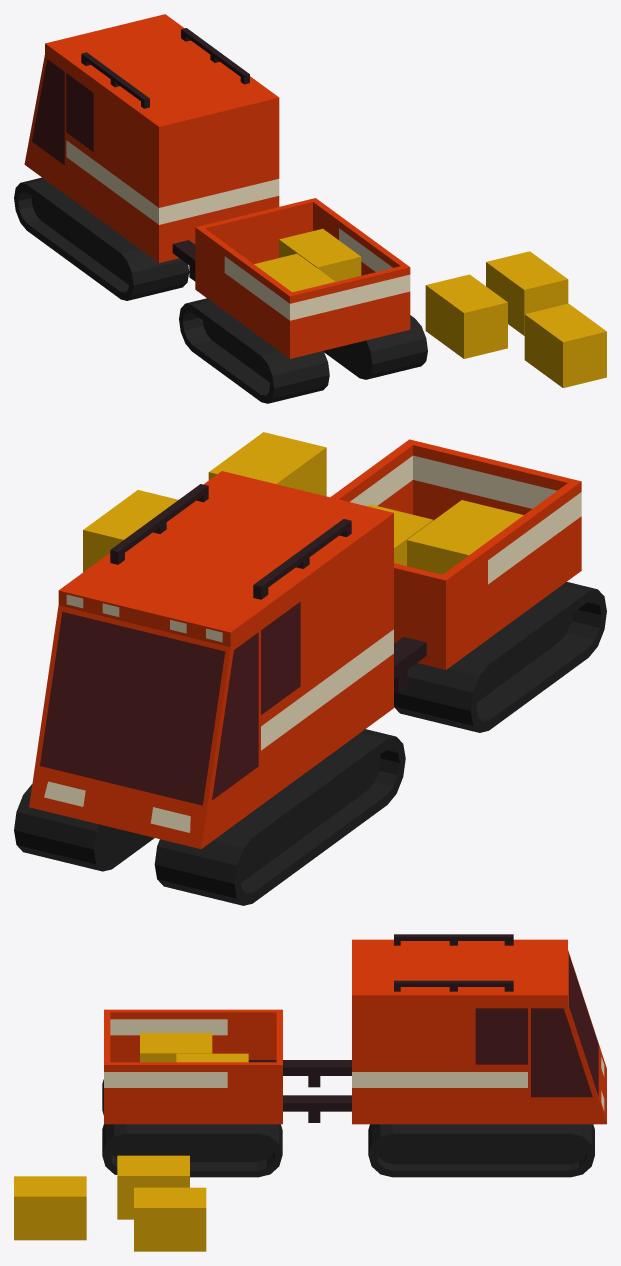
Rendered from car+pricep.fbx.
3 renders of one model, top to bottom at view 1: azimuth 30°, elevation 25°; view 2: azimuth 150°, elevation 25°; view 3: azimuth 270°, elevation 25°, orthographic. The views are drawn at different scales.
Visible parts, largest first — view 1: Cube.037, Cube.057, Cylinder.065, Cylinder.064, Cube.042, Cube.043, Cube.041, Cube.040, Cube.039, Cube.038, Cube.044; view 2: Cube.037, Cube.057, Cylinder.064, Cylinder.065, Cube.039, Cube.042, Cube.038, Cube.041, Cube.040, Cube.044; view 3: Cube.037, Cube.057, Cylinder.064, Cylinder.065, Cube.042, Cube.041, Cube.043, Cube.044, Cube.038, Cube.039, Cube.040.
Part boxes in pixels (x1,y1,x2,y2): Cube.037: (24, 14, 279, 262); Cube.057: (195, 198, 410, 358); Cylinder.065: (179, 298, 427, 403); Cylinder.064: (14, 177, 189, 300); Cube.042: (524, 303, 606, 387); Cube.043: (425, 274, 507, 358); Cube.041: (486, 251, 568, 335); Cube.040: (279, 228, 361, 281); Cube.039: (254, 253, 335, 292); Cube.038: (81, 28, 249, 108); Cube.044: (172, 240, 195, 281); Cube.037: (29, 471, 393, 848); Cube.057: (330, 439, 581, 669); Cylinder.064: (14, 729, 405, 905); Cylinder.065: (394, 582, 606, 732); Cube.039: (407, 500, 523, 574); Cube.042: (208, 432, 326, 496); Cube.038: (110, 484, 351, 599); Cube.041: (83, 490, 178, 572); Cube.040: (367, 504, 433, 565); Cube.044: (394, 637, 426, 693); Cube.037: (352, 939, 606, 1124); Cube.057: (104, 1009, 282, 1124); Cylinder.064: (368, 1124, 594, 1177); Cylinder.065: (102, 1079, 282, 1177); Cube.042: (14, 1176, 86, 1240); Cube.041: (134, 1187, 206, 1251); Cube.043: (117, 1155, 189, 1219); Cube.044: (248, 1060, 351, 1122); Cube.038: (394, 934, 513, 991); Cube.039: (140, 1033, 212, 1062); Cube.040: (176, 1053, 248, 1062).
Bounding box in the file's own units: 517 × 310 × 902.
